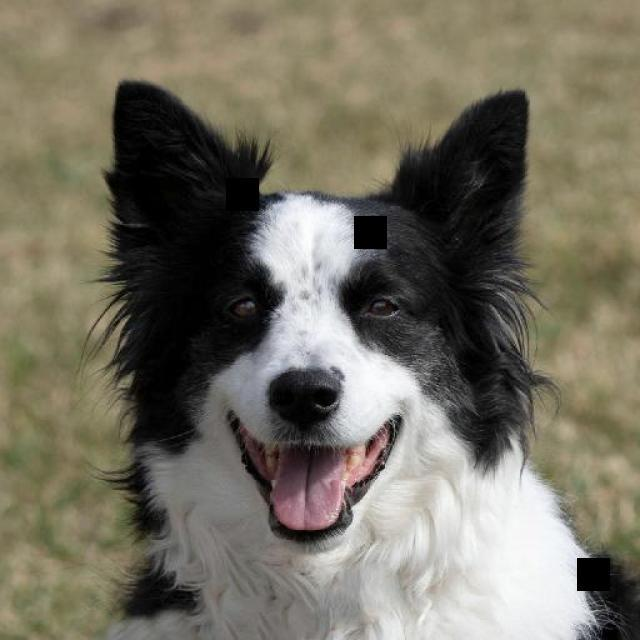adult_dog: (92, 78, 638, 640)
